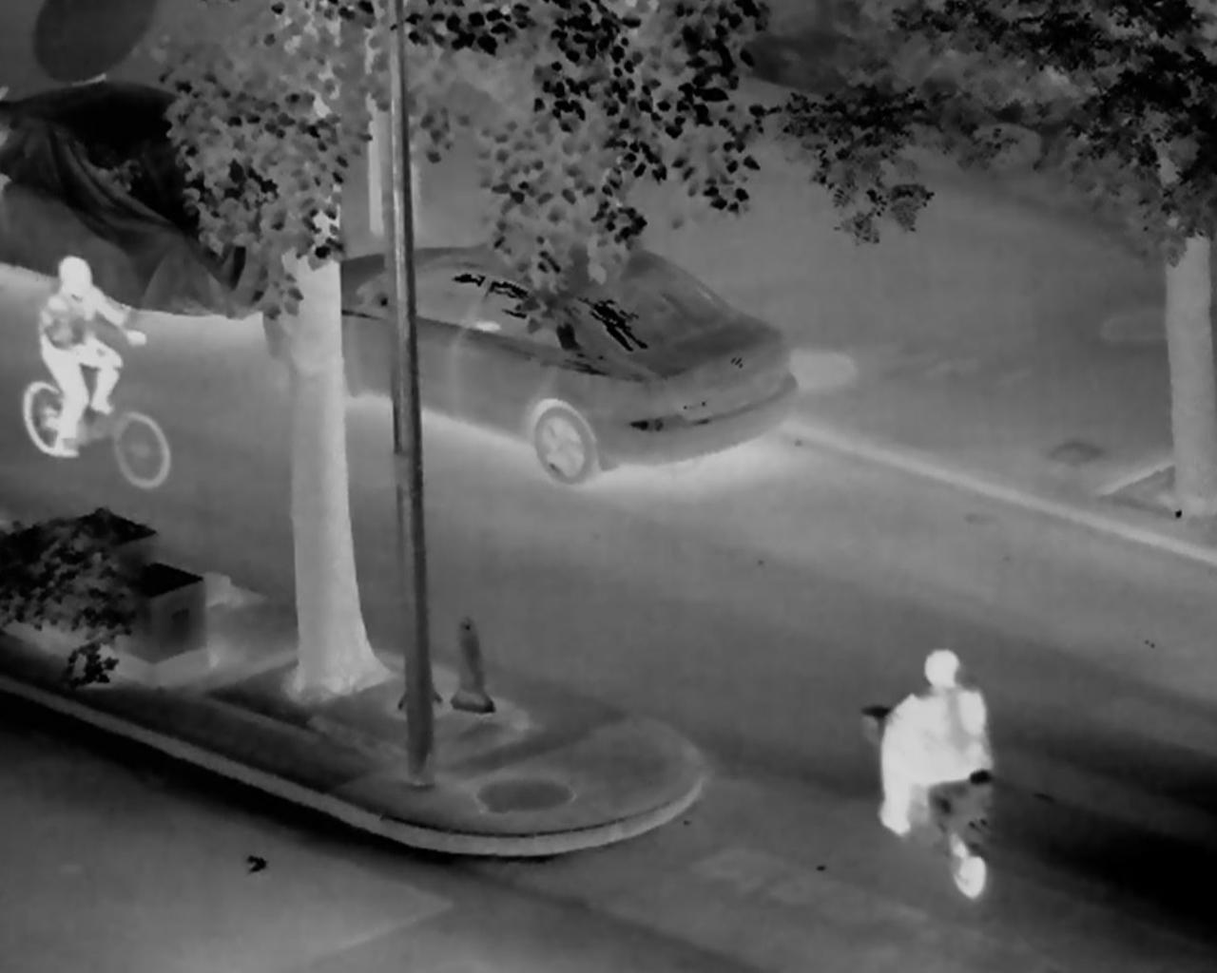person: (37, 256, 152, 457), (879, 648, 989, 842)
